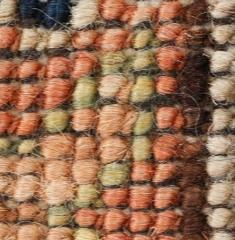Knot: (67, 227, 90, 238)
